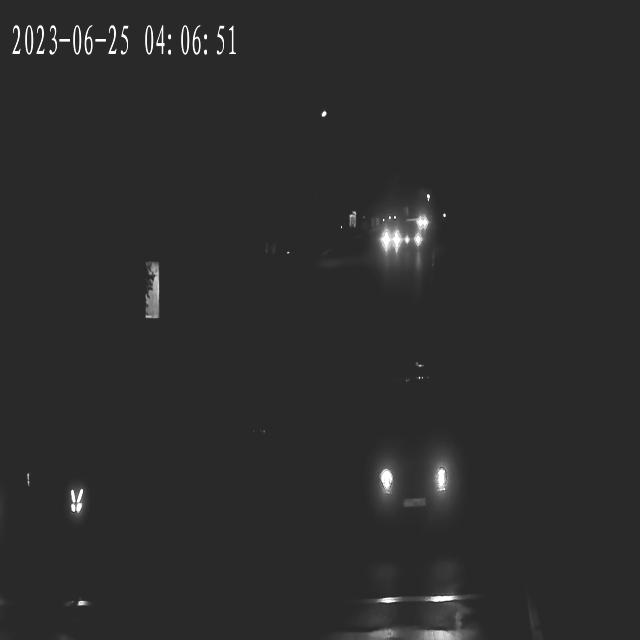Car: (364, 418, 456, 519), (398, 231, 424, 251), (378, 227, 397, 249), (380, 230, 400, 250), (414, 215, 430, 230)
